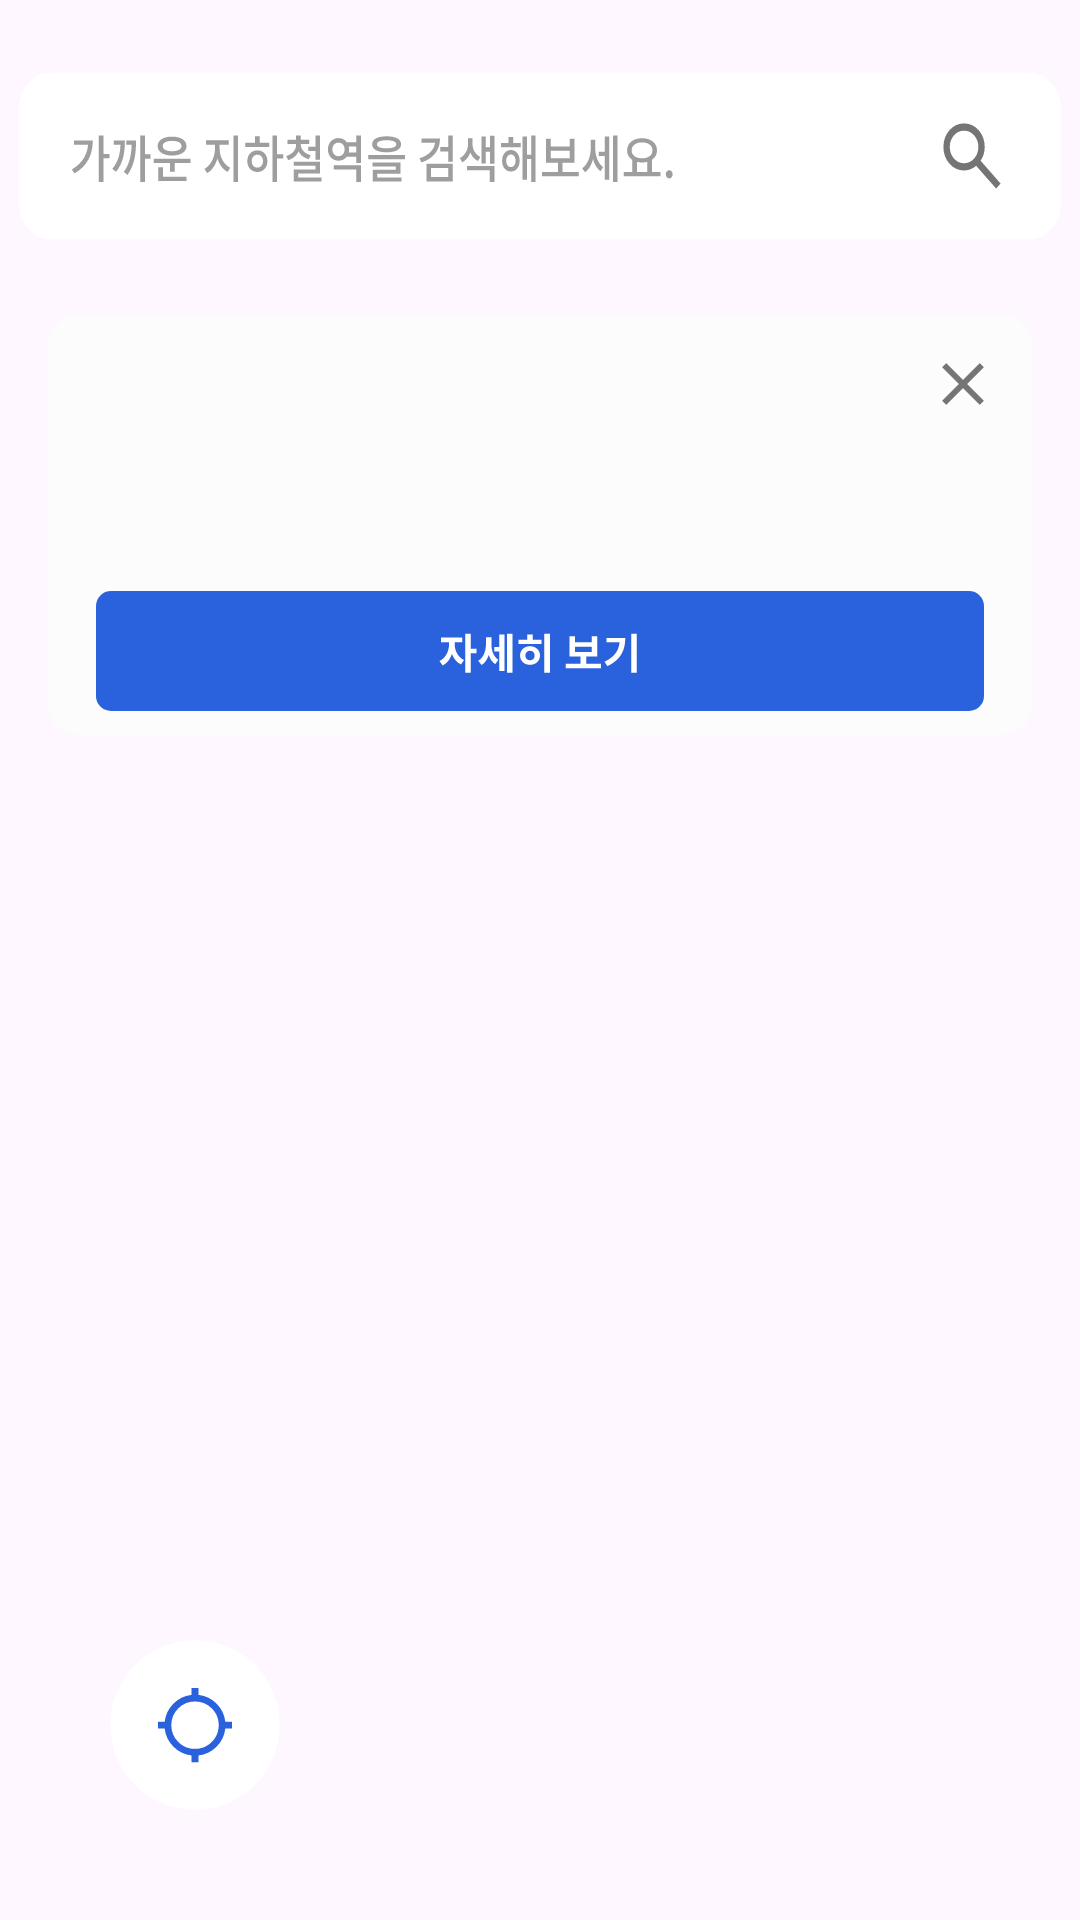

Icons on this 1080 × 1920 Android screen, each with the point to tap as (x,y):
close: (963,384)
